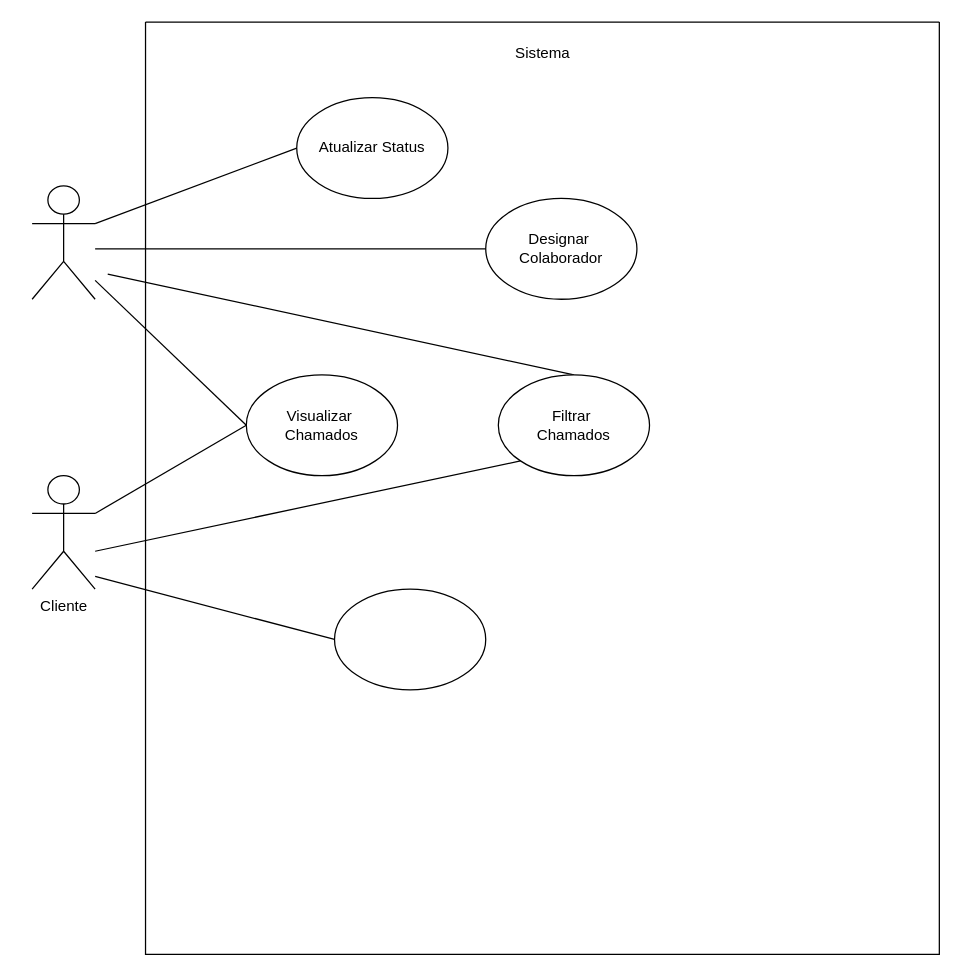
Some shapes in this 961 by 977 pixel diagram are drawn without their labels. The shapes that lost their labels are listed below. From the top down, each one's centre as x and y in pixels, then its label:
the point at 63,242: Colaborador
the point at 409,639: Registrar Chamado
